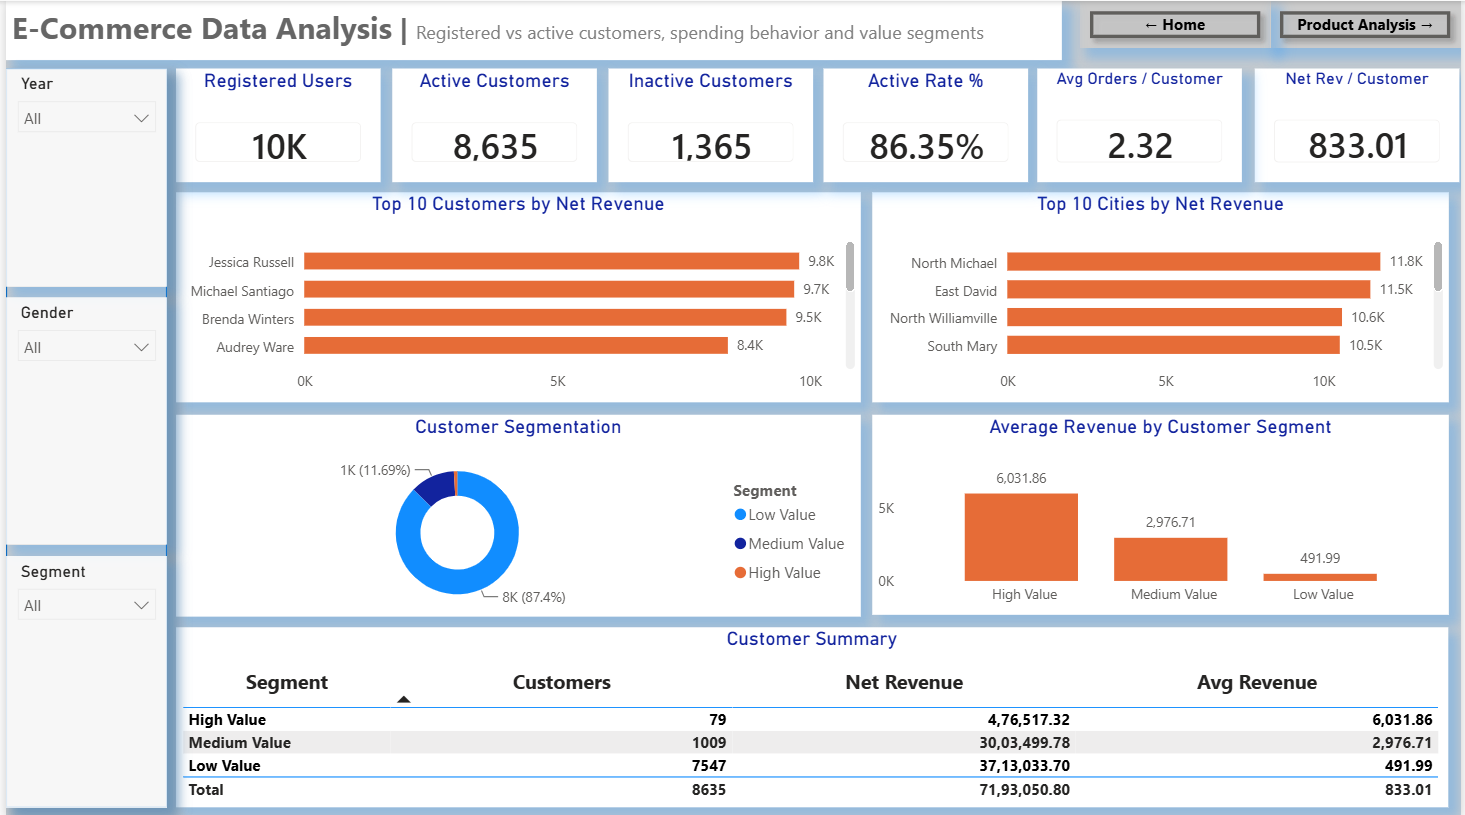

Layout of this report page (visuals, bound fields, positions):
{"tool":"powerbi","page":{"name":"Customer Insights","canvas":[1280,720],"ordinal":1},"visuals":[{"type":"clusteredBarChart","title":"Top 10 Customers  by Net Revenue","fields":{"Category":["users.name"],"Y":["order_items.Net Revenue (Items)"]},"box":[150,167.9,602.4,184.5],"z":0},{"type":"clusteredBarChart","title":"Top 10 Cities by Net Revenue","fields":{"Category":["users.city"],"Y":["order_items.Net Revenue (Items)"]},"box":[761.9,167.9,507.1,184.5],"z":1000},{"type":"donutChart","title":"Customer Segmentation","fields":{"Category":["Segments.Segment"],"Y":["Segments.Segment Customers"]},"box":[150,364.3,602.4,177.4],"z":2000},{"type":"clusteredColumnChart","title":"Average Revenue by Customer Segment","fields":{"Category":["Segments.Segment"],"Y":["Segments.Segment Avg Revenue"]},"box":[761.9,364.3,507.1,176.2],"z":3000},{"type":"tableEx","title":"Customer Summary","fields":{"Values":["Segments.Segment","Segments.Segment Customers","Segments.Segment Revenue","Segments.Segment Avg Revenue"]},"box":[150,551.2,1119.1,158.3],"z":4000},{"type":"actionButton","box":[944.6,0,167.9,41.7],"z":5000},{"type":"actionButton","box":[1112.1,0,167.9,41.7],"z":6000},{"type":"textbox","box":[0,0,928.6,52.4],"z":7000},{"type":"cardVisual","title":"Registered Users","fields":{"Data":["Measure (3).Total Customers"]},"box":[150,59.5,180,100],"z":11000},{"type":"cardVisual","title":"Active Customers","fields":{"Data":["orders.Active Customers Count"]},"box":[339.3,59.5,180,100],"z":12000},{"type":"cardVisual","title":"Inactive Customers","fields":{"Data":["orders.Inactive Customers Count"]},"box":[529.8,59.5,180,100],"z":13000},{"type":"shape","box":[0,59.5,141.7,650],"z":14000},{"type":"slicer","fields":{"Values":["Calendar.Year"]},"box":[0,59.5,141.7,191.7],"z":15000},{"type":"slicer","fields":{"Values":["users.gender"]},"box":[0,260.7,141.7,217.9],"z":16000},{"type":"slicer","fields":{"Values":["Customer Summary.Customer Segment"]},"box":[0,488.1,141.7,221.4],"z":17000},{"type":"cardVisual","title":"Active Rate %","fields":{"Data":["orders.Active Rate %"]},"box":[719.1,59.5,180,100],"z":18000},{"type":"cardVisual","title":"Net Rev / Customer","fields":{"Data":["orders.Net Revenue per Customer"]},"box":[1098.8,59,180,100],"z":19000},{"type":"cardVisual","title":"Avg Orders / Customer","fields":{"Data":["orders.Avg Orders per Active Customer"]},"box":[907.1,59,180,100],"z":20000}]}

Visuals, with their boxes in screenshot pixels (x1, y1, x2, y2), scaled from the page's 1280x720 canvas onto the 1465x815 screenshot:
"Top 10 Customers  by Net Revenue" clusteredBarChart: 172 190 861 399
"Top 10 Cities by Net Revenue" clusteredBarChart: 872 190 1452 399
"Customer Segmentation" donutChart: 172 412 861 613
"Average Revenue by Customer Segment" clusteredColumnChart: 872 412 1452 612
"Customer Summary" tableEx: 172 624 1453 803
actionButton: 1081 0 1273 47
actionButton: 1273 0 1464 47
textbox: 0 0 1063 59
"Registered Users" cardVisual: 172 67 378 181
"Active Customers" cardVisual: 388 67 594 181
"Inactive Customers" cardVisual: 606 67 812 181
shape: 0 67 162 803
slicer - Calendar.Year: 0 67 162 284
slicer - users.gender: 0 295 162 542
slicer - Customer Summary.Customer Segment: 0 553 162 803
"Active Rate %" cardVisual: 823 67 1029 181
"Net Rev / Customer" cardVisual: 1258 67 1464 180
"Avg Orders / Customer" cardVisual: 1038 67 1244 180
